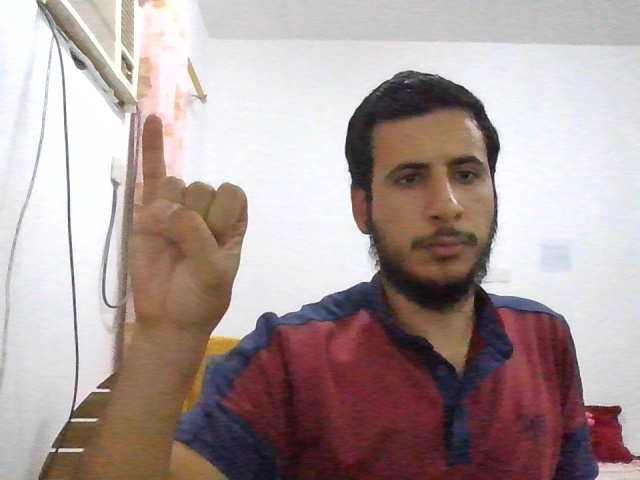One: (129, 115, 249, 324)
